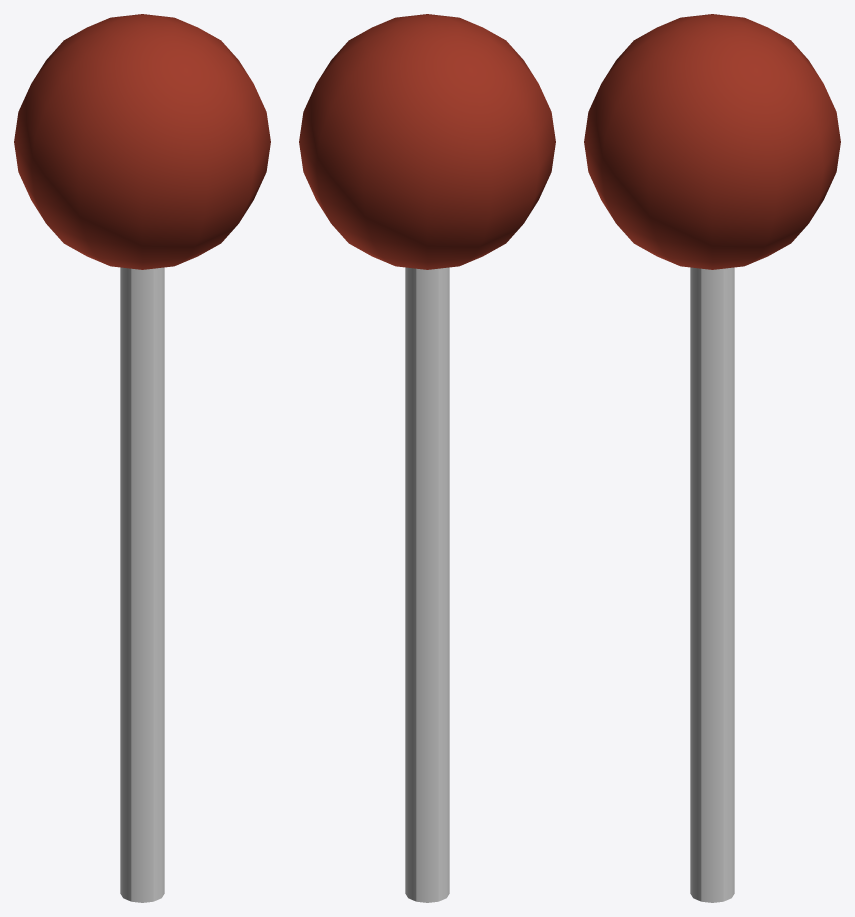
File: needle.glb
3 views of the same model, side by side, from view 1: azimuth 30°, elevation 25°; view 2: azimuth 150°, elevation 25°; view 3: azimuth 270°, elevation 25° (orthographic).
Parts seen in each view (by area): view 1: needle; view 2: needle; view 3: needle.
Boxes of the visible parts, x1,y1,x2,y2 form: needle: [14, 14, 270, 902]; needle: [299, 14, 555, 902]; needle: [584, 14, 840, 902].
Size of the model in its own units: 0.721 by 2.69 by 0.721.
